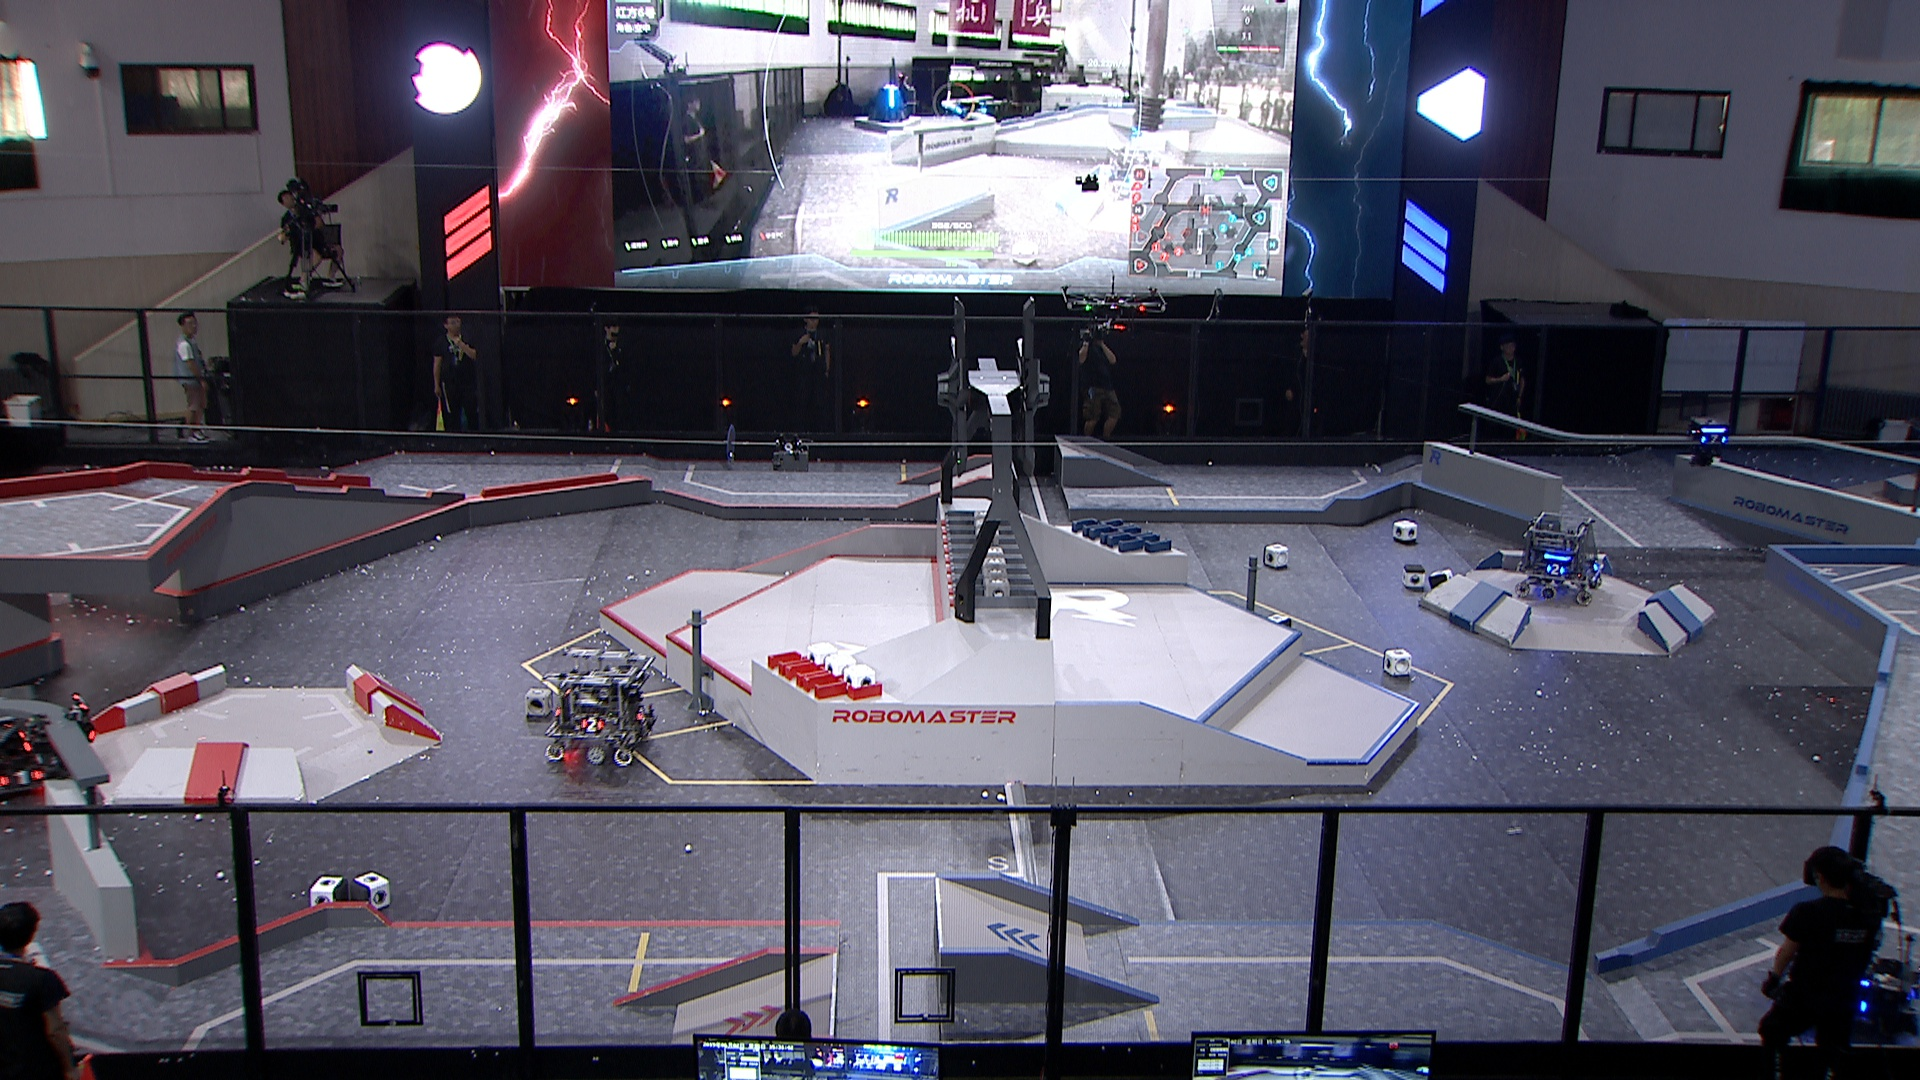armor: (3, 767, 45, 793), (16, 727, 40, 757), (579, 713, 605, 736), (632, 702, 651, 723), (1700, 433, 1727, 447), (1589, 555, 1607, 575), (1544, 562, 1567, 576)
car: (1780, 920, 1920, 1031), (542, 647, 661, 766), (1515, 508, 1609, 605)
ignore: (868, 82, 916, 124), (953, 96, 988, 123)
watcher: (12, 690, 100, 782), (1687, 413, 1733, 469)
